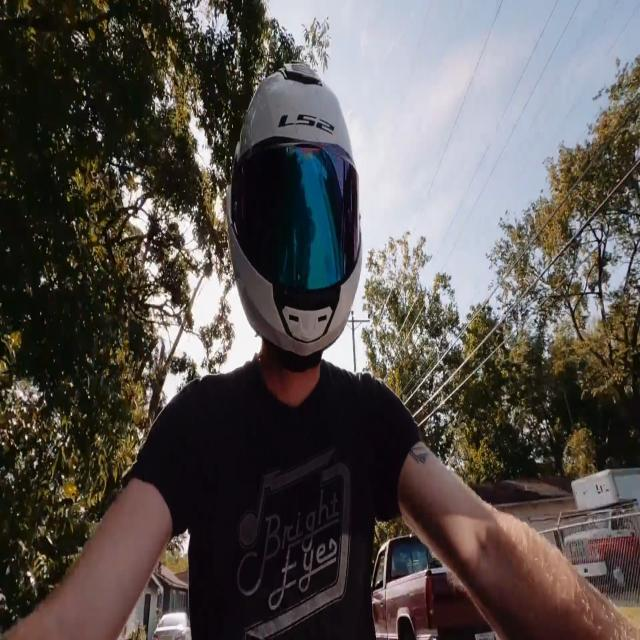Helmet_Wearer: (212, 58, 378, 412)
Person: (3, 59, 640, 640)
